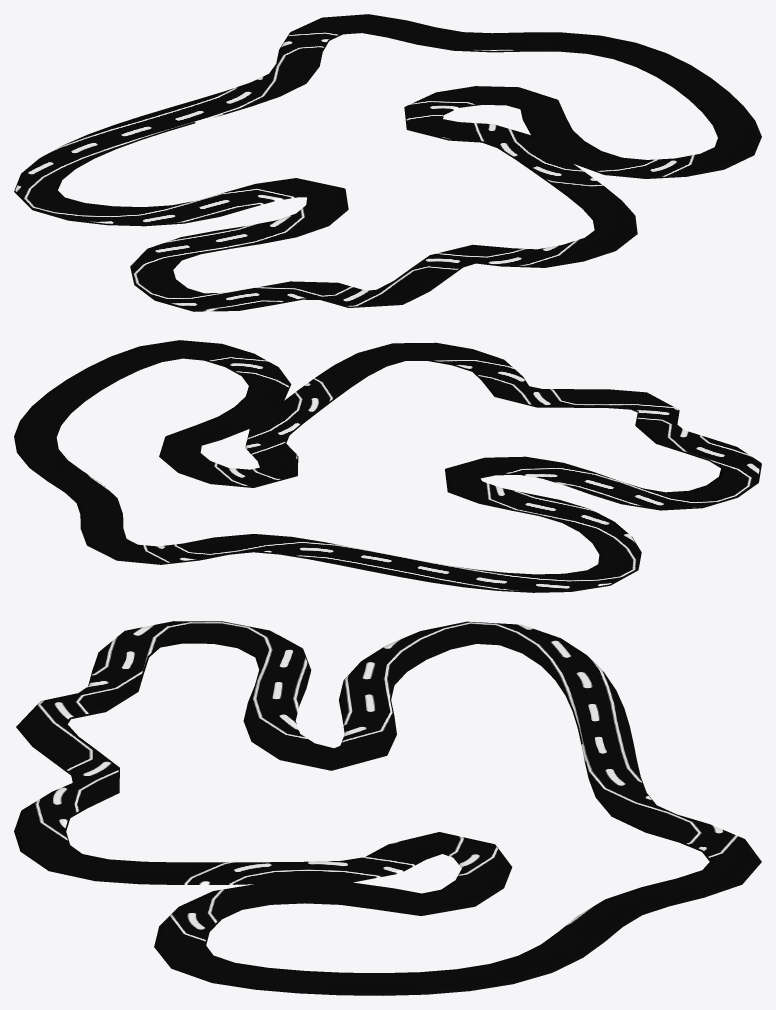
The model's file is Pista Race.fbx.
The picture shows the model from 3 angles, top to bottom: view 1: azimuth 30°, elevation 25°; view 2: azimuth 150°, elevation 25°; view 3: azimuth 270°, elevation 25°; orthographic projection. The views are drawn at different scales.
Visible parts, largest first — view 1: pista; view 2: pista; view 3: pista.
Boxes of the visible parts, <box> form: pista: <box>14,14,761,311</box>; pista: <box>14,340,761,592</box>; pista: <box>14,621,761,995</box>.
Bounding box in the file's own units: 22929 × 73.23 × 19380.
Materials: 2 (1 with a texture image).
